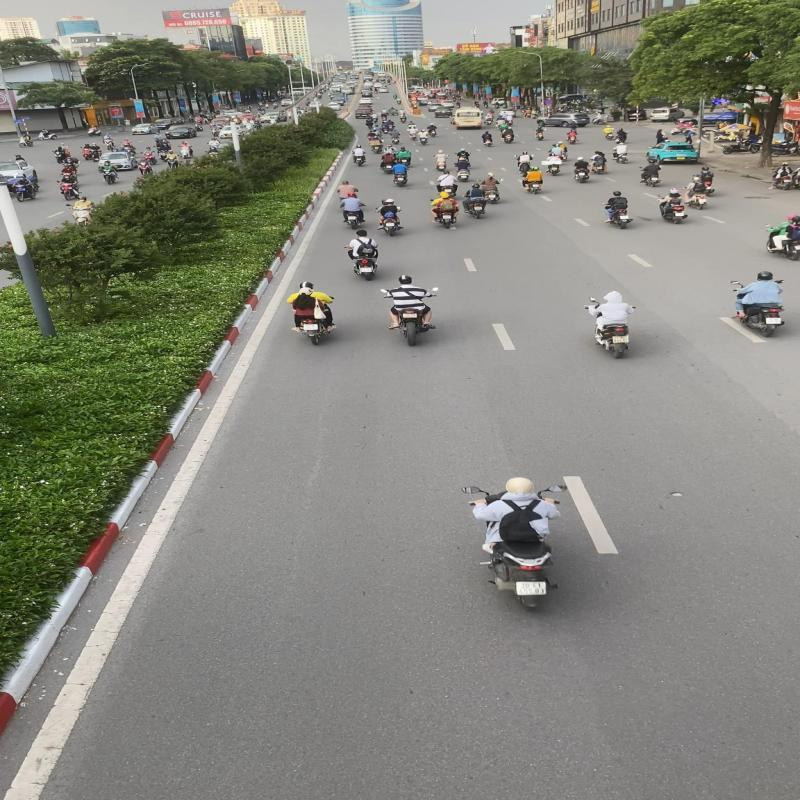helmet: (502, 475, 537, 496)
licenseplate: (514, 580, 550, 597)
motorcyclist: (457, 474, 575, 616)
